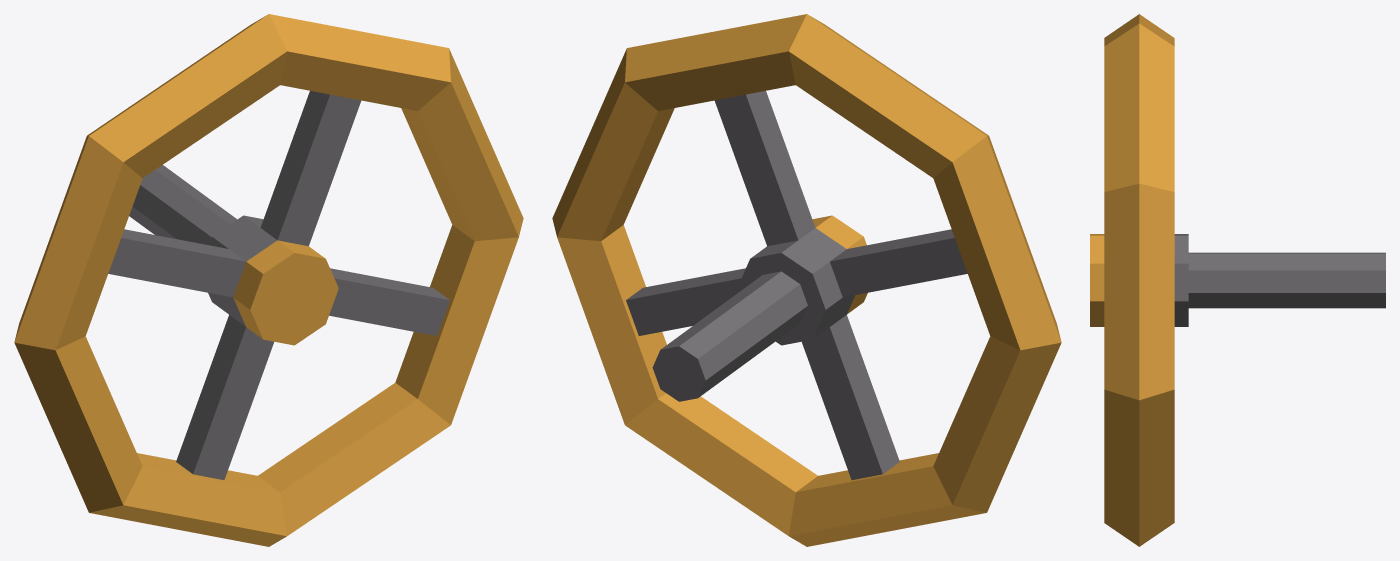
Rendered from scifi_valve.fbx.
3 renders of one model, left to right at view 1: azimuth 30°, elevation 25°; view 2: azimuth 150°, elevation 25°; view 3: azimuth 270°, elevation 25°, orthographic. The views are drawn at different scales.
Parts seen in each view (by area): view 1: Cylinder.009; view 2: Cylinder.009; view 3: Cylinder.009.
Boxes of the visible parts, bbox=[...] form: Cylinder.009: bbox=[14, 14, 523, 546]; Cylinder.009: bbox=[552, 14, 1061, 546]; Cylinder.009: bbox=[1090, 14, 1385, 546].
Size of the model in its own units: 0.575 by 0.575 by 0.3.
